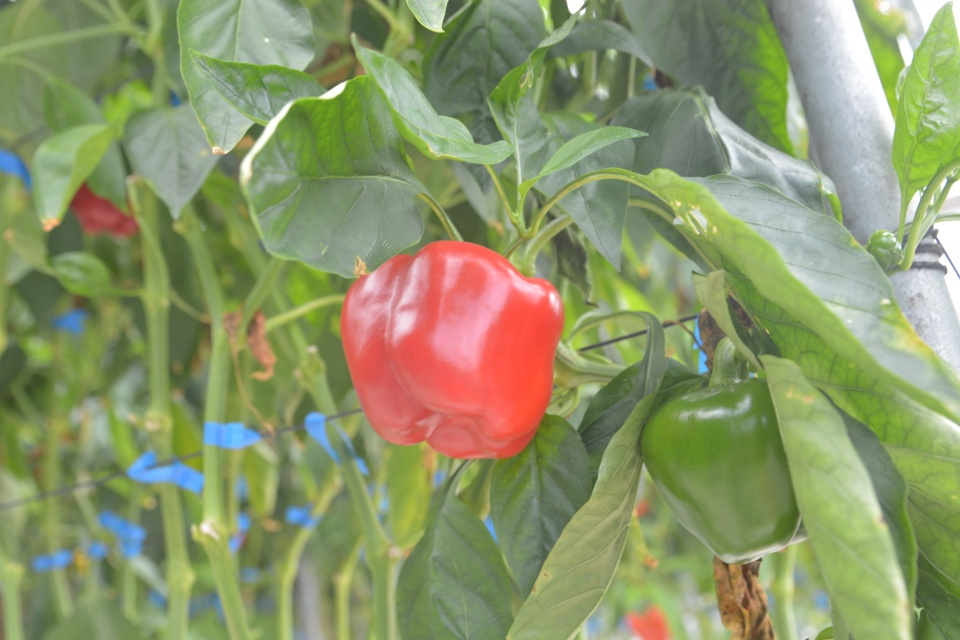fruit: (337, 236, 566, 463), (637, 375, 803, 566), (71, 176, 143, 237)
immature: (861, 228, 904, 273)
